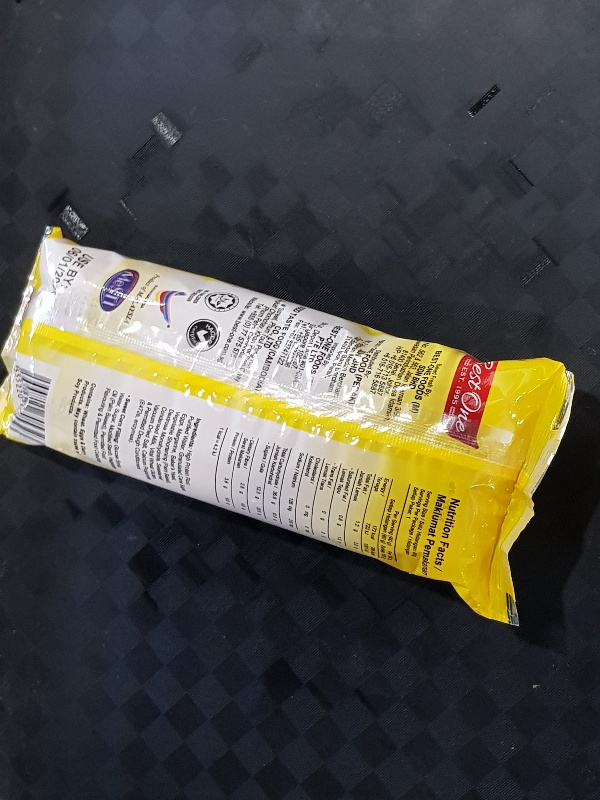Tinges Roll Sweet Corn: (1, 225, 575, 628)
